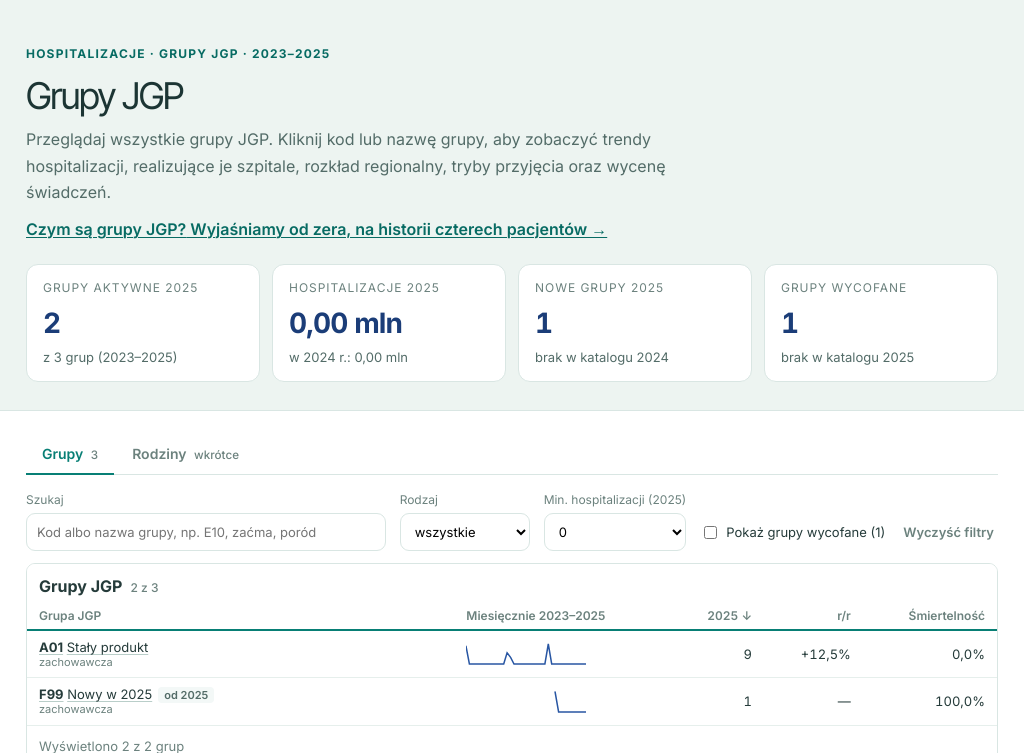
it: Katalog grup JGP › przypięty nagłówek tabeli ma tytuł i liczbę wyników na tle wszystkich grup
Expected: the row "Grupy JGP2 z 3" is shown, left=27, top=564, right=997, bottom=600
Type "staly" into the search field.
click(206, 532); type("staly")  # box left=26, top=513, right=386, bottom=551
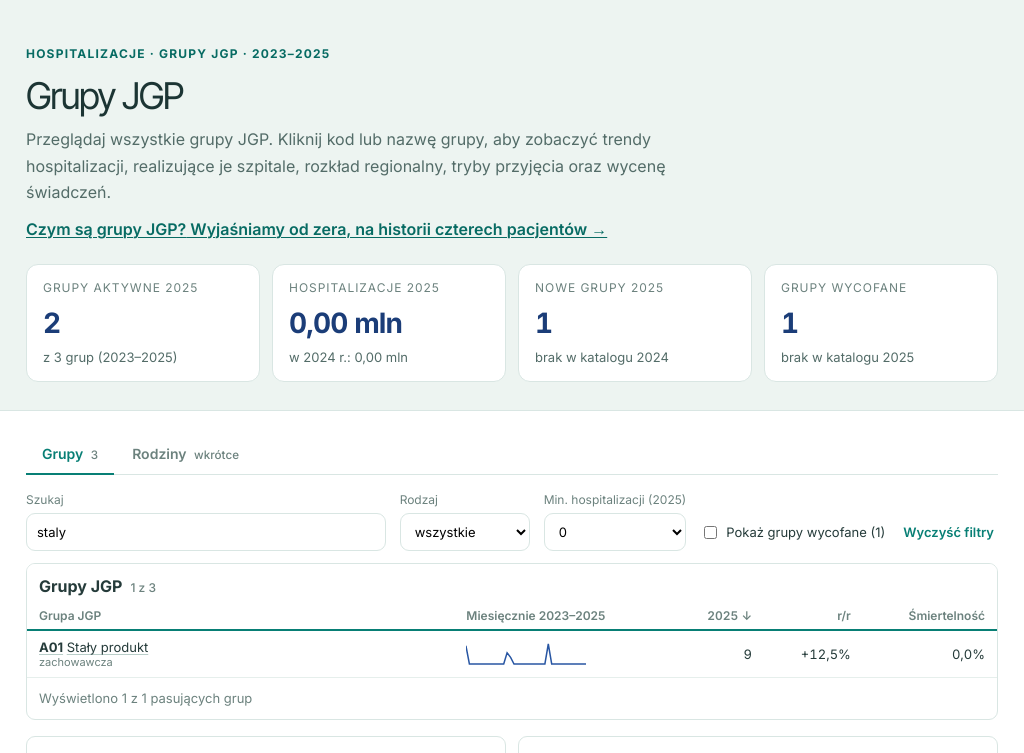
Expected: the row "Grupy JGP1 z 3" is shown, left=27, top=564, right=997, bottom=600
